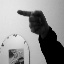g: (15, 8, 49, 35)
